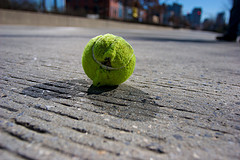tennis ball: (81, 32, 136, 86)
